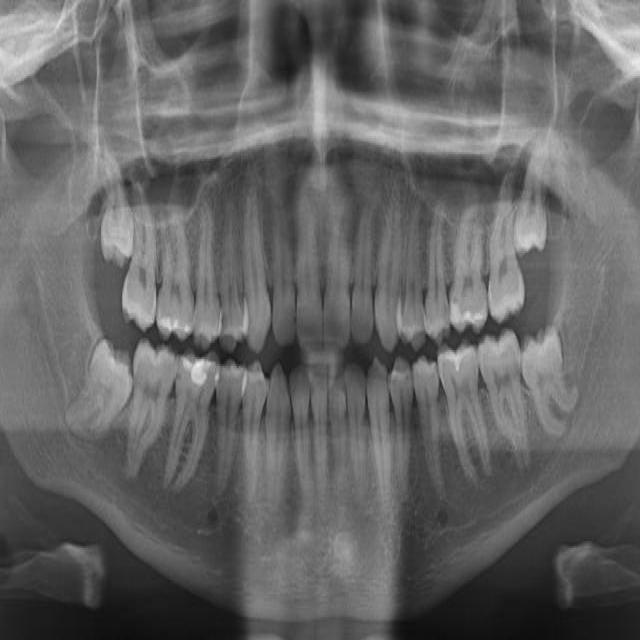dolgu: (184, 345, 219, 394)
kok-enfeksiyonu: (193, 478, 230, 544), (421, 486, 457, 530)
